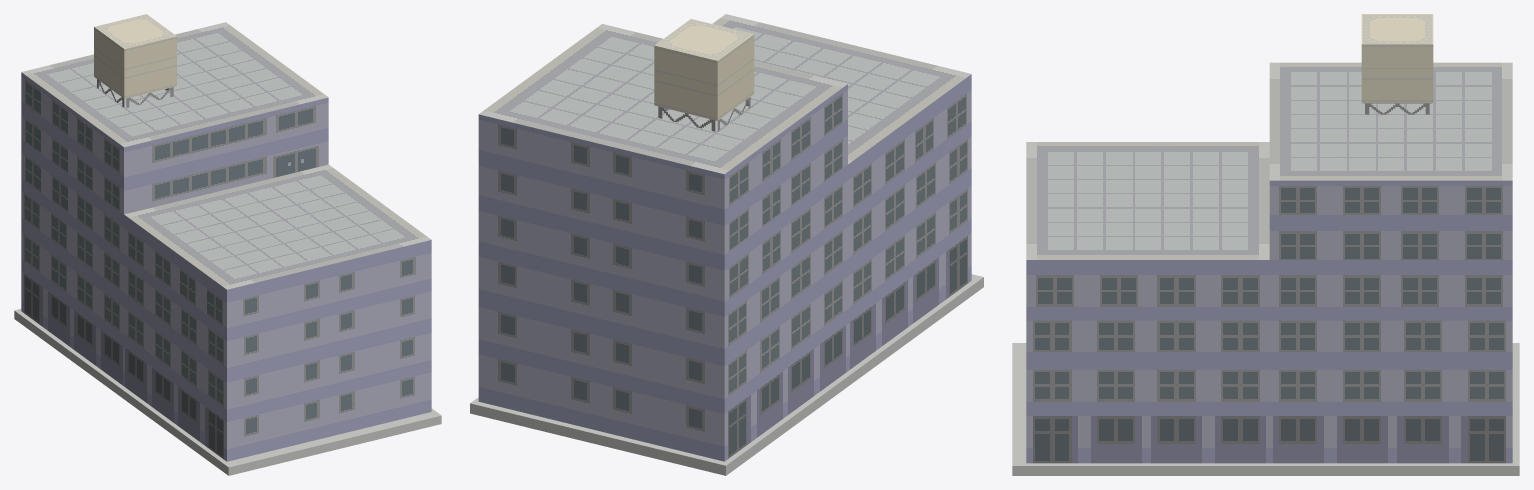
File: 0270_Bream_Building.glb
3 views of the same model, side by side, from view 1: azimuth 30°, elevation 25°; view 2: azimuth 150°, elevation 25°; view 3: azimuth 270°, elevation 25° (orthographic). The views are drawn at different scales.
Parts seen in each view (by area): view 1: part_0; view 2: part_0; view 3: part_0.
Part boxes in pixels (bbox=[...]): part_0: bbox=[14, 14, 441, 475]; part_0: bbox=[470, 14, 983, 475]; part_0: bbox=[1012, 14, 1519, 475].
Bounding box in the file's own units: 10.93 × 15.1 × 19.07.
1 material, 1 textured.
